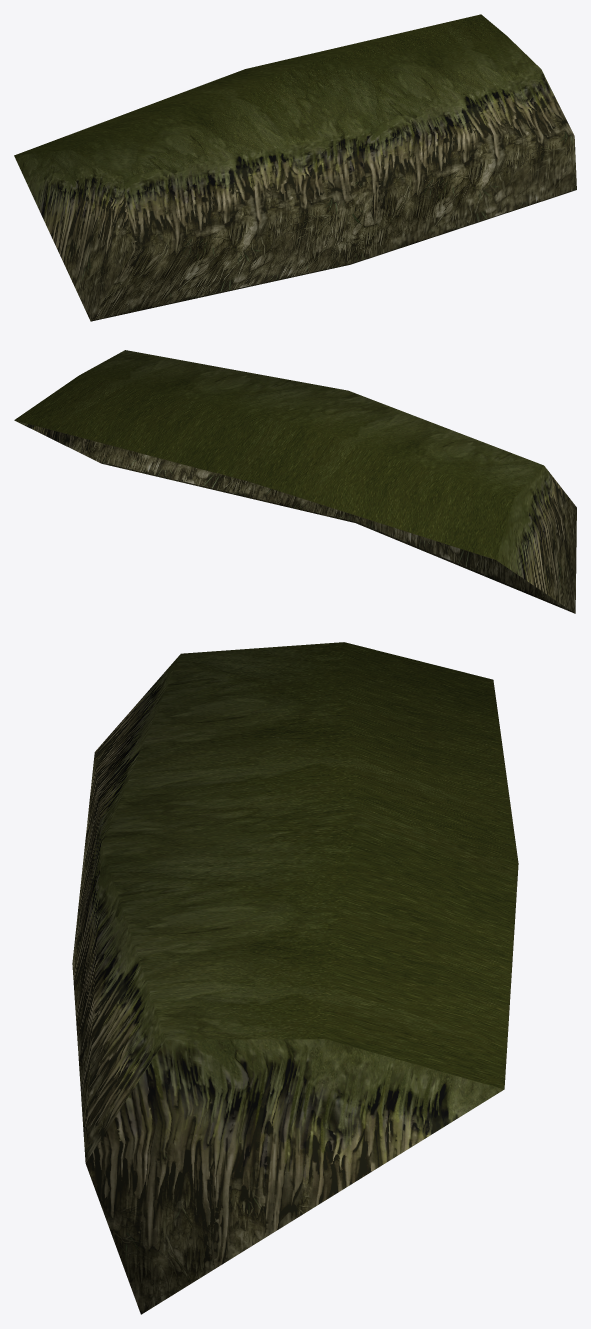
File: MEP_Dirtedge_04.fbx
3 views of the same model, one above another, from view 1: azimuth 30°, elevation 25°; view 2: azimuth 150°, elevation 25°; view 3: azimuth 270°, elevation 25° (orthographic). The views are drawn at different scales.
Visible parts, largest first — view 1: MEP_DIrtEdge_04; view 2: MEP_DIrtEdge_04; view 3: MEP_DIrtEdge_04.
Part boxes in pixels (box(x1,y1,x2,y2)): MEP_DIrtEdge_04: box(14, 14, 576, 321); MEP_DIrtEdge_04: box(14, 350, 576, 613); MEP_DIrtEdge_04: box(72, 642, 518, 1314).
Bounding box in the file's own units: 12.9 × 4.19 × 5.24.
